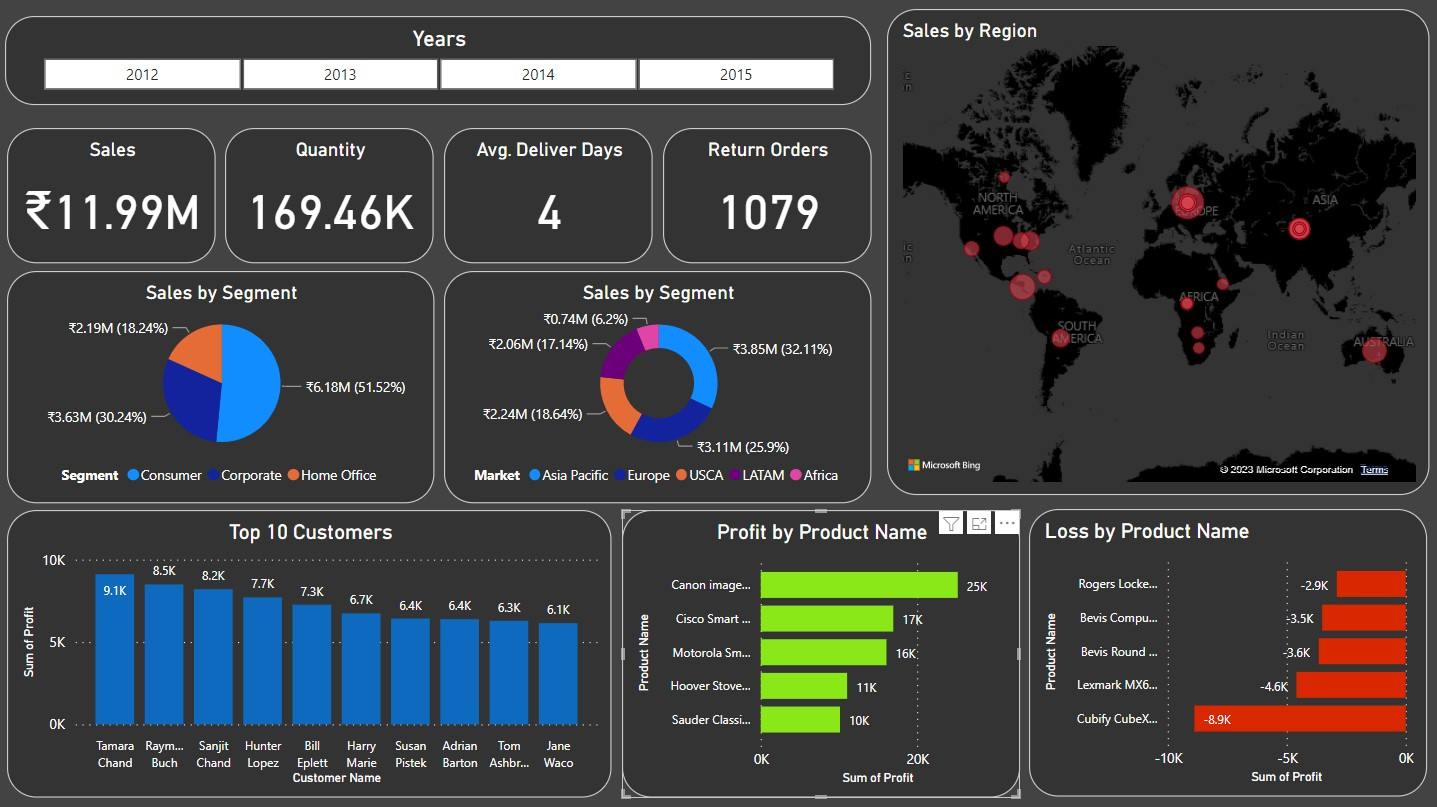

The dashboard page shown, as its layout file describes it:
{"tool":"powerbi","page":{"name":"Page 1","canvas":[1280,720],"ordinal":0},"visuals":[{"type":"card","title":"Sales","fields":{"Values":["Orders.Sales"]},"box":[8.2,116.4,185.5,120],"z":0},{"type":"card","title":"Quantity","fields":{"Values":["Orders.Quantity"]},"box":[200.9,116.4,185.5,120],"z":1000},{"type":"card","title":"Avg. Deliver Days","fields":{"Values":["Orders.Delivery Days"]},"box":[395.5,116.4,185.5,120],"z":2000},{"type":"slicer","title":"Years","fields":{"Values":["Orders.Year"]},"box":[6.4,17.3,768.2,79.1],"z":3000},{"type":"card","title":"Return Orders","fields":{"Values":["Returns.Return Orders"]},"box":[590,116.4,184.5,120],"z":4000},{"type":"map","title":"Sales by Region","fields":{"Category":["Orders.Region"],"Size":["Orders.Sales"]},"box":[788.2,10.9,480.9,430.9],"z":5000},{"type":"barChart","title":"Loss by Product Name","fields":{"Category":["Orders.Product Name"],"Y":["Orders.Profit"]},"box":[914.2,454,352.9,255.4],"z":6000},{"type":"barChart","title":"Profit by Product Name","fields":{"Category":["Orders.Product Name"],"Y":["Orders.Profit"]},"box":[553.3,454.9,352.9,255.4],"z":7000},{"type":"pieChart","title":"Sales by Segment","fields":{"Category":["Orders.Segment"],"Y":["Orders.Sales"]},"box":[7.9,242.9,378.6,205.7],"z":8000},{"type":"donutChart","title":"Sales by Segment","fields":{"Y":["Orders.Sales"],"Category":["Orders.Market"]},"box":[395.7,242.9,378.6,205.7],"z":9000},{"type":"columnChart","title":"Top 10 Customers","fields":{"Y":["Orders.Profit"],"Category":["Orders.Customer Name"]},"box":[8.3,455.2,536.5,255.2],"z":10000}]}

Visuals, with their boxes in screenshot pixels (x1, y1, x2, y2), scaled from the page's 1280x720 canvas onto the 1437x807 screenshot:
"Sales" card: bbox=(9, 130, 217, 265)
"Quantity" card: bbox=(226, 130, 434, 265)
"Avg. Deliver Days" card: bbox=(444, 130, 652, 265)
"Years" slicer: bbox=(7, 19, 870, 108)
"Return Orders" card: bbox=(662, 130, 869, 265)
"Sales by Region" map: bbox=(885, 12, 1425, 495)
"Loss by Product Name" barChart: bbox=(1026, 509, 1423, 795)
"Profit by Product Name" barChart: bbox=(621, 510, 1017, 796)
"Sales by Segment" pieChart: bbox=(9, 272, 434, 503)
"Sales by Segment" donutChart: bbox=(444, 272, 869, 503)
"Top 10 Customers" columnChart: bbox=(9, 510, 612, 796)
